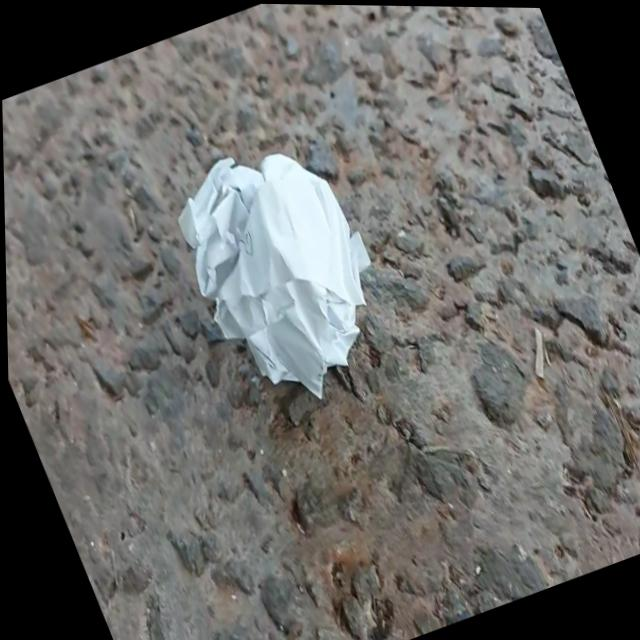paper: (179, 154, 369, 397)
